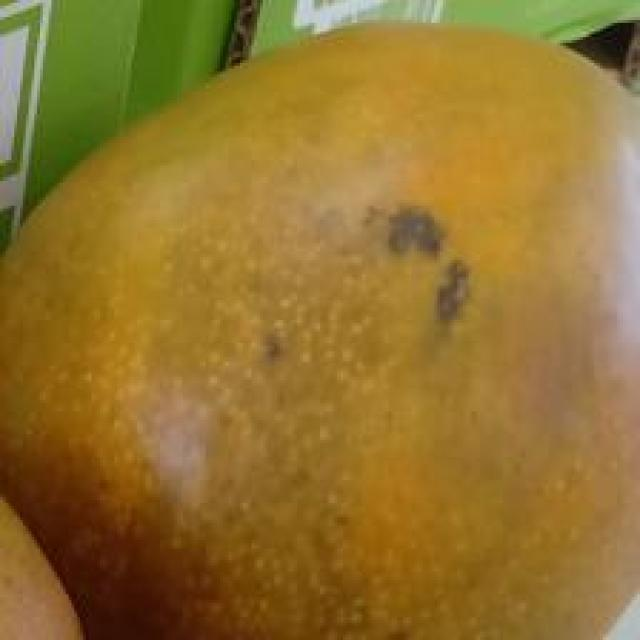Mango: (0, 22, 640, 630), (0, 495, 85, 640)
